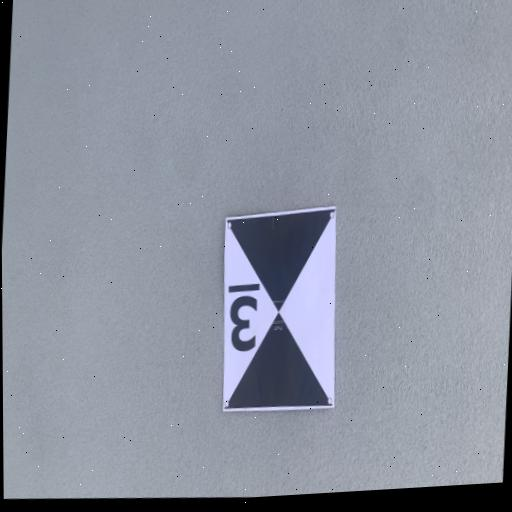target3: (223, 205, 336, 410)
